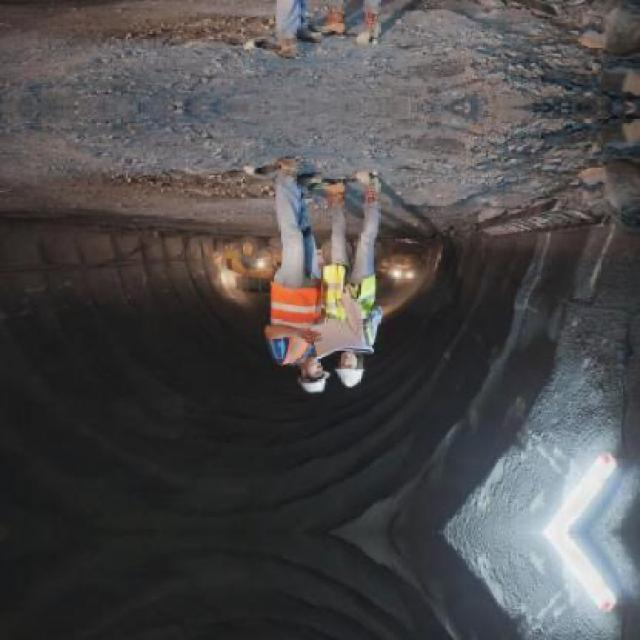con casco: (322, 345, 373, 401), (285, 357, 326, 399)
